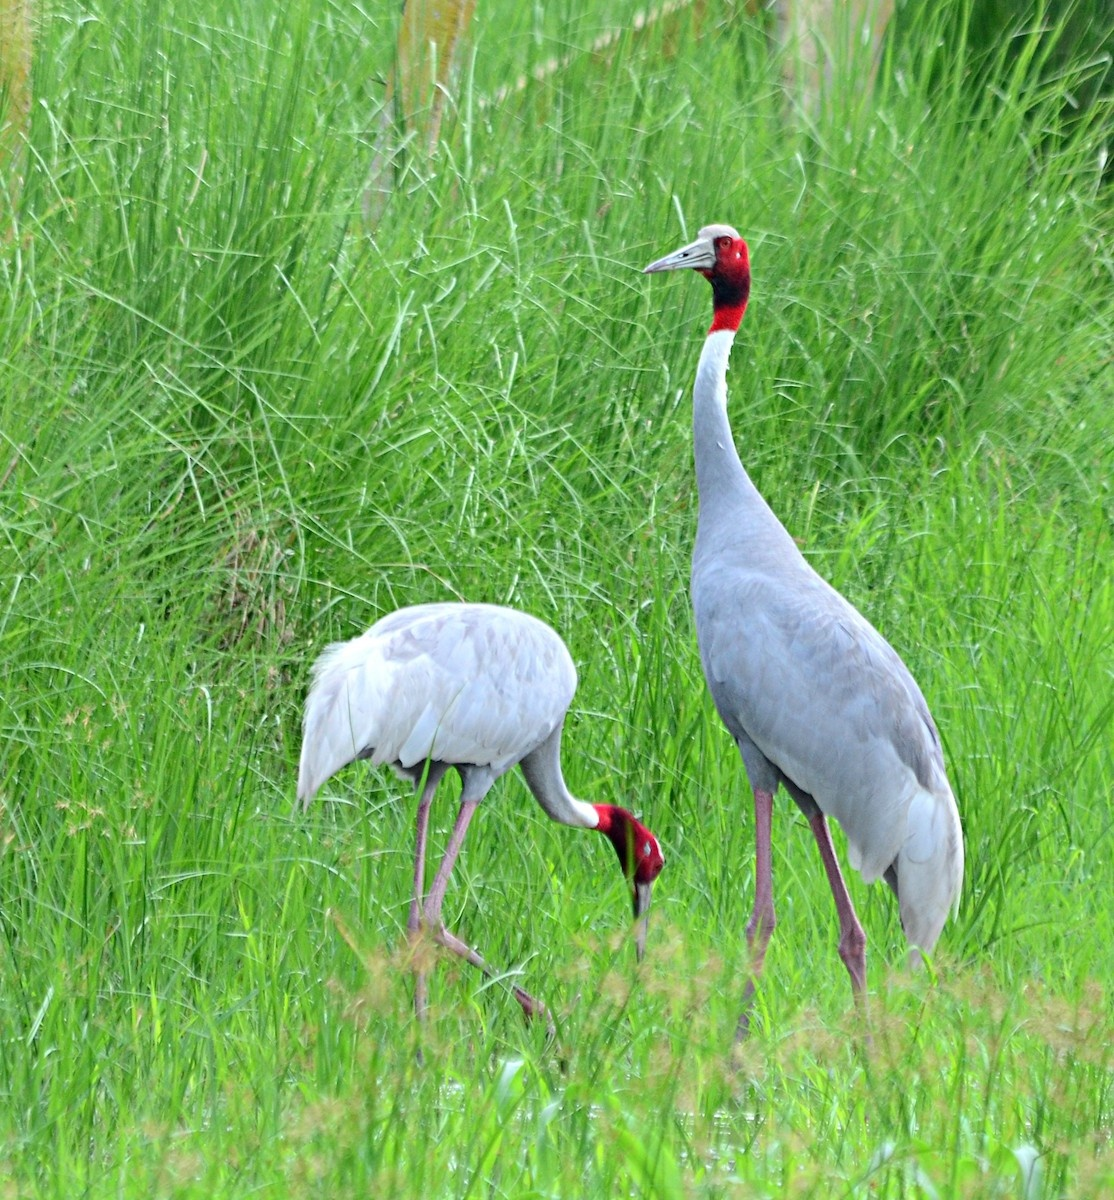crane: (641, 213, 995, 1014), (295, 585, 670, 1039)
